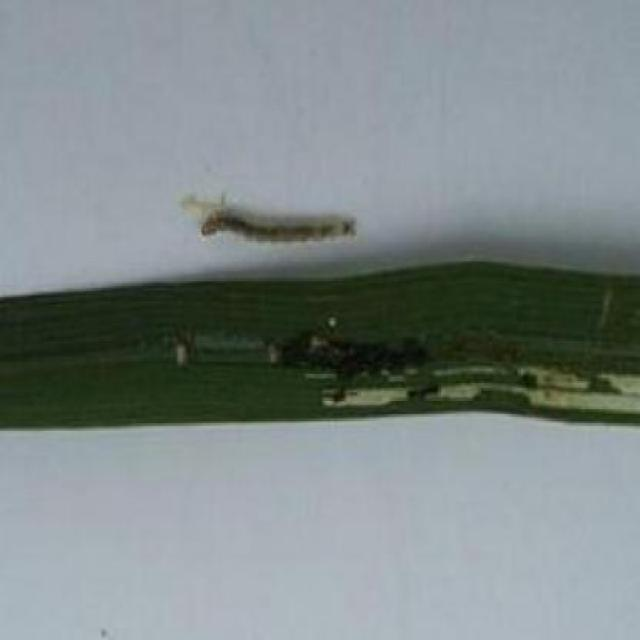leaf-folder: (195, 198, 362, 264)
